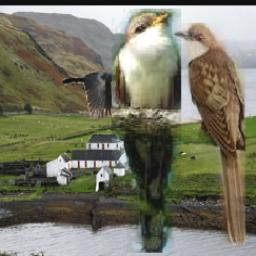Crow: (61, 69, 122, 119)
Cuckoo: (112, 10, 181, 254), (174, 24, 245, 246)
